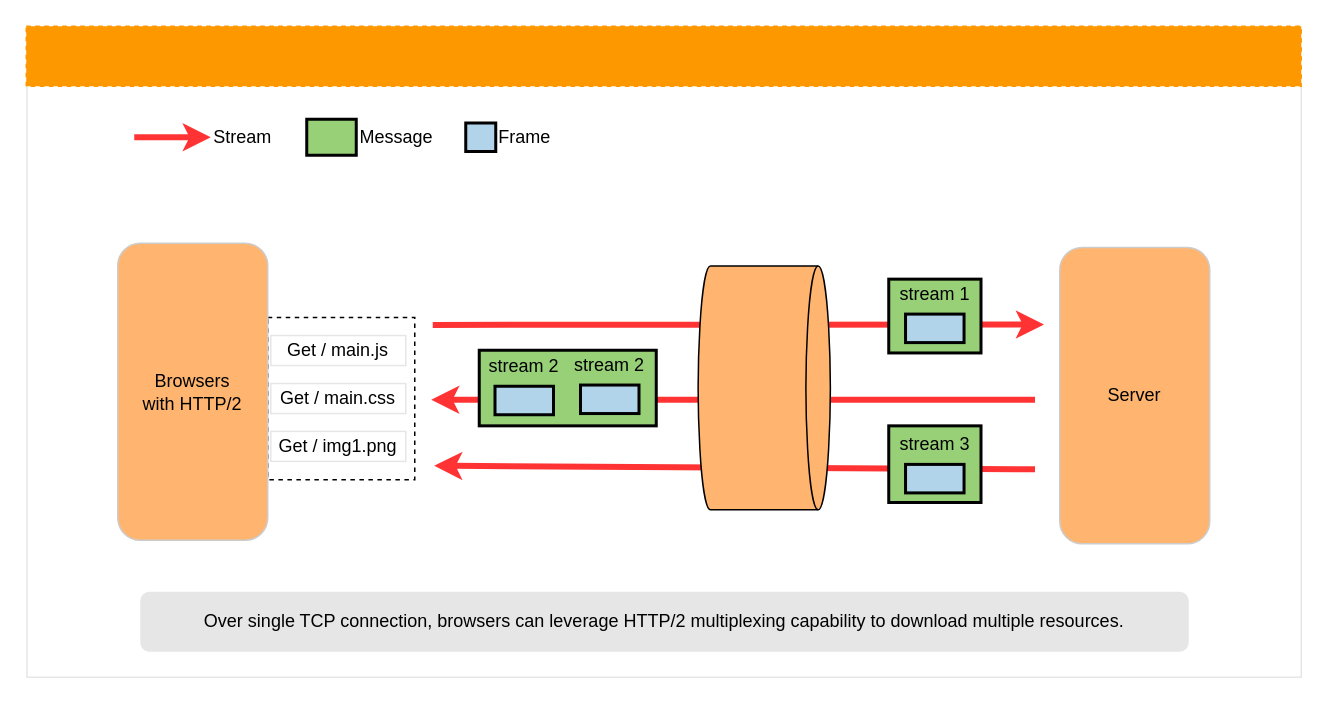
Image size: 1328x704. Some labels were removed from this diagram. The shapes that lost their labels are listed below. From the top down, each one's centre as x and y in pixels, then its label:
point 663,55: HTTP/2
point 763,387: Over Single TCP Connection
